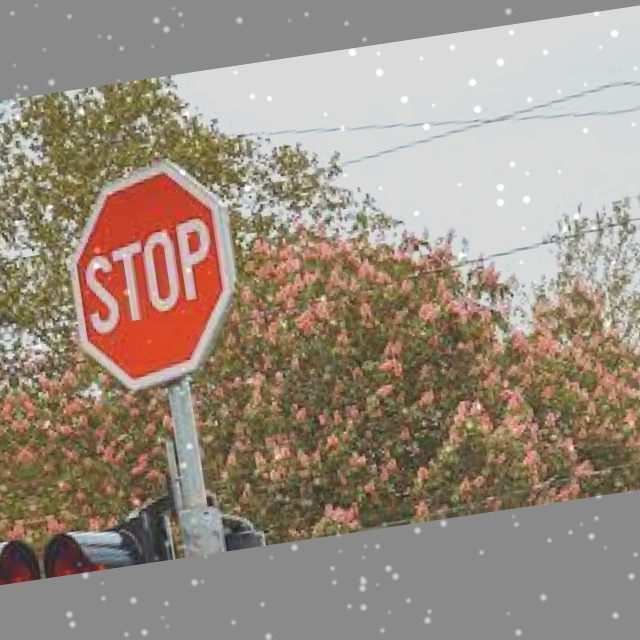Stop: (61, 158, 247, 392)
